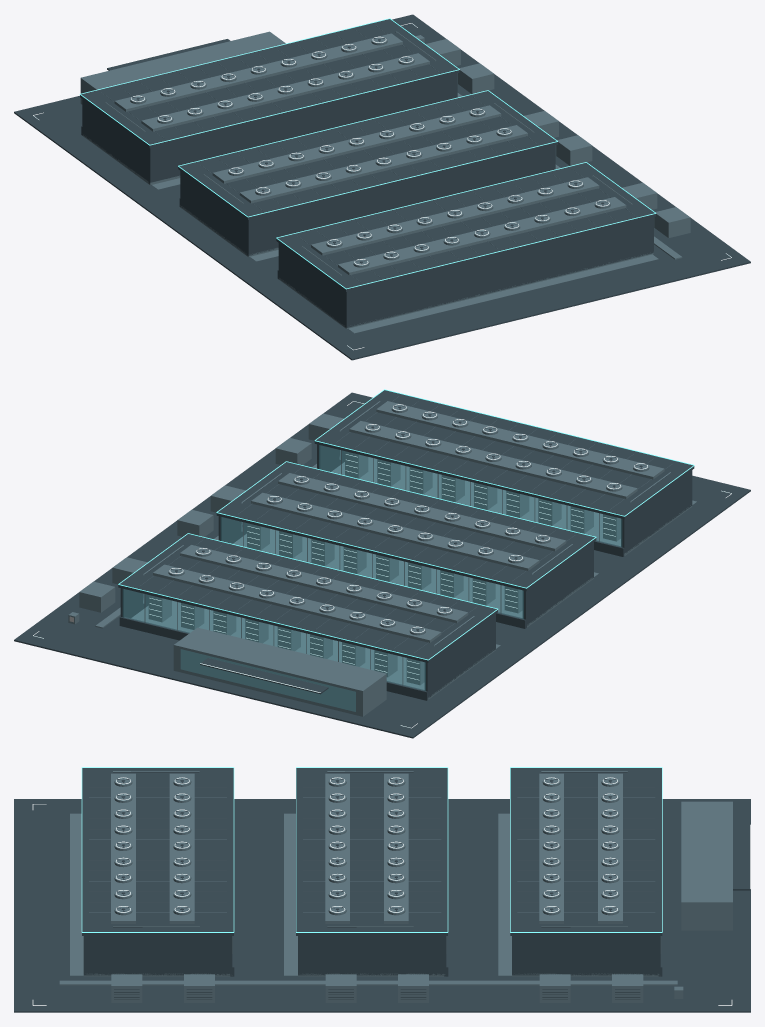
Rendered from data_center_campus.glb.
3 views of the same model, one above another, from view 1: azimuth 30°, elevation 25°; view 2: azimuth 150°, elevation 25°; view 3: azimuth 270°, elevation 25° (orthographic). The views are drawn at different scales.
Visible parts, largest first — view 1: data_center_campus_graphite, data_center_campus_graphite_light, data_center_campus_edge, data_center_campus_white; view 2: data_center_campus_graphite, data_center_campus_graphite_light, data_center_campus_glass, data_center_campus_white, data_center_campus_edge; view 3: data_center_campus_graphite, data_center_campus_graphite_light, data_center_campus_edge, data_center_campus_white.
Boxes of the visible parts, bbox=[...] form: data_center_campus_graphite: bbox=[14, 14, 750, 360]; data_center_campus_graphite_light: bbox=[80, 25, 690, 333]; data_center_campus_edge: bbox=[79, 18, 656, 289]; data_center_campus_white: bbox=[33, 23, 731, 350]; data_center_campus_graphite: bbox=[14, 390, 750, 738]; data_center_campus_graphite_light: bbox=[68, 396, 696, 716]; data_center_campus_glass: bbox=[123, 445, 621, 711]; data_center_campus_white: bbox=[33, 401, 731, 728]; data_center_campus_edge: bbox=[118, 389, 694, 660]; data_center_campus_graphite: bbox=[14, 768, 750, 1012]; data_center_campus_graphite_light: bbox=[59, 771, 732, 1002]; data_center_campus_edge: bbox=[81, 767, 662, 932]; data_center_campus_white: bbox=[32, 777, 750, 1005].
Size of the model in its own units: 146 by 16.51 by 213.
